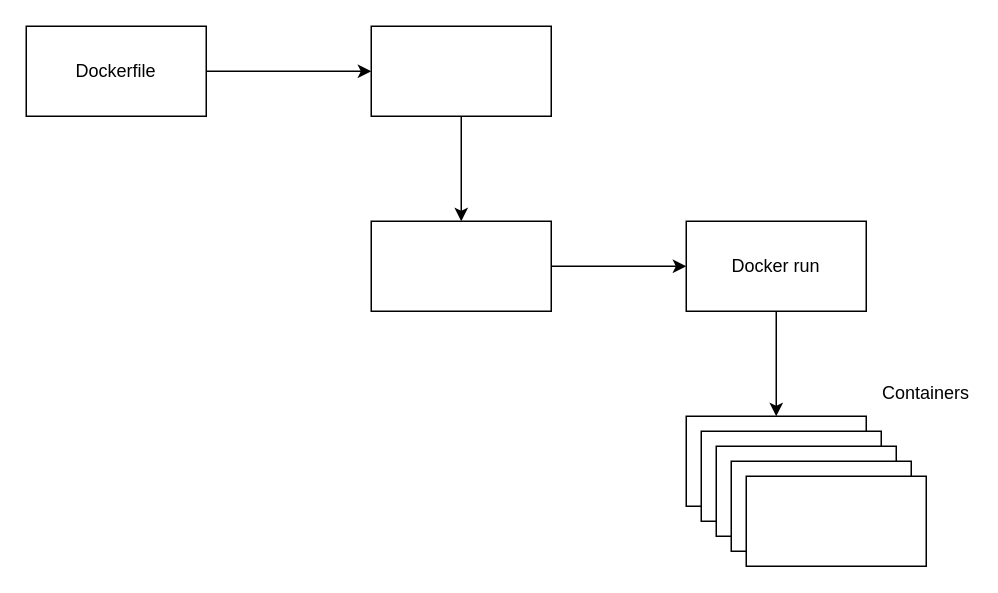
This 998x593 diagram has some shape labels left out. The shapes that lost their labels are listed below. From the top down, each one's centre as x and y in pixels, then its label:
point (460, 70): Docker build tool
point (460, 265): Docker image
